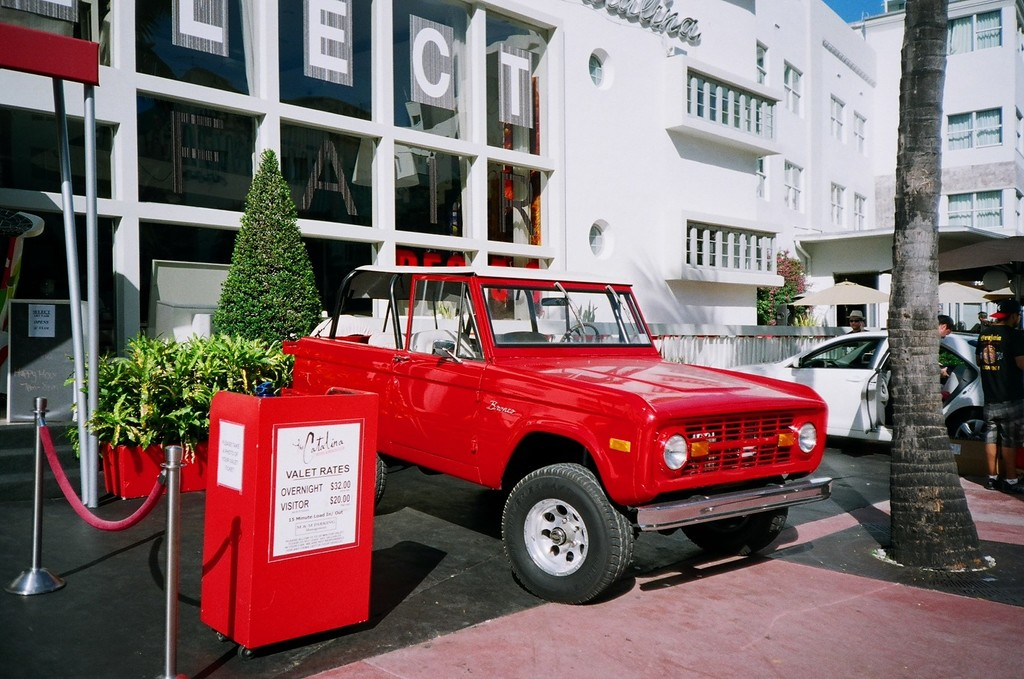Car: (735, 330, 987, 440)
